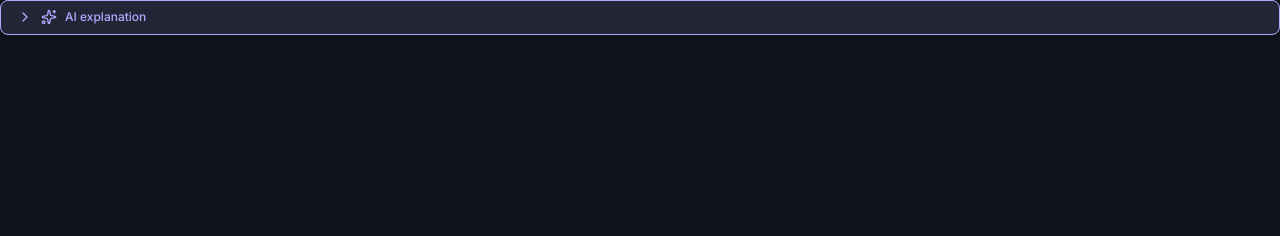
AiExplanation › fetches on expand, shows provenance, and regenerates with force
Later steps or results of the test are not shown.
Click the button "AI explanation" at (106, 16), box x1=17 y1=9 x2=1263 y2=26
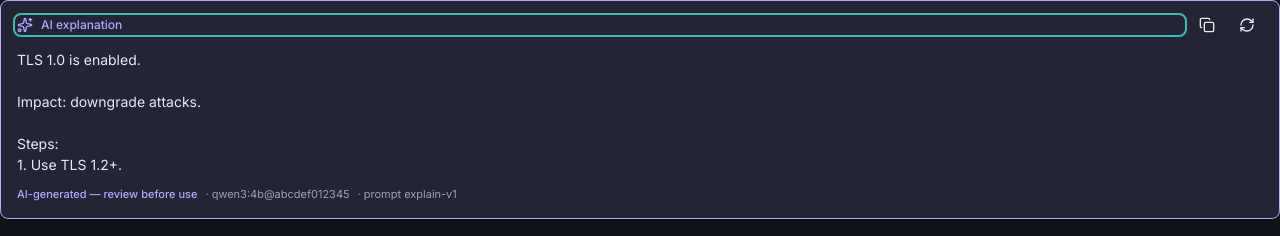
Now the text "TLS 1.0 is enabled" is shown, box x1=17 y1=51 x2=201 y2=173
Now the text "AI-generated — review before use" is shown, box x1=17 y1=187 x2=197 y2=202
Now the text "· qwen3:4b@abcdef012345" is shown, box x1=205 y1=187 x2=350 y2=202
